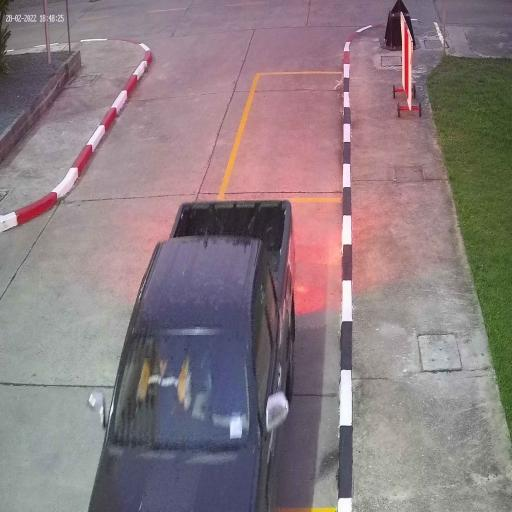car: (87, 196, 298, 512)
